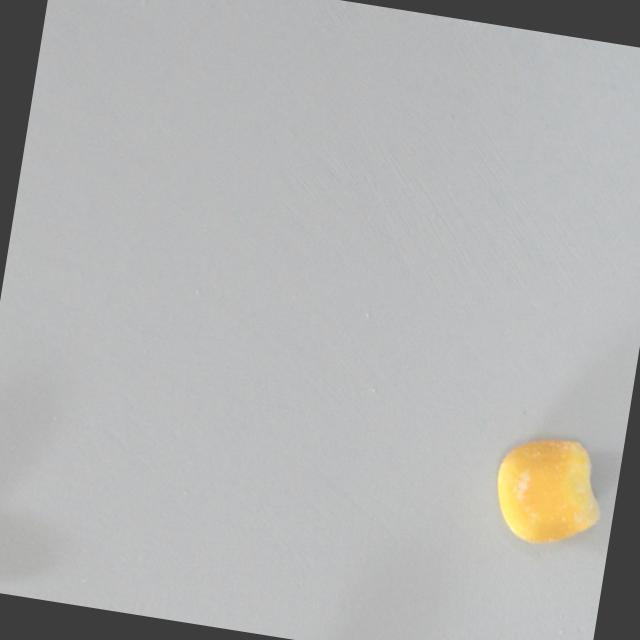pelicula: (487, 429, 613, 555)
